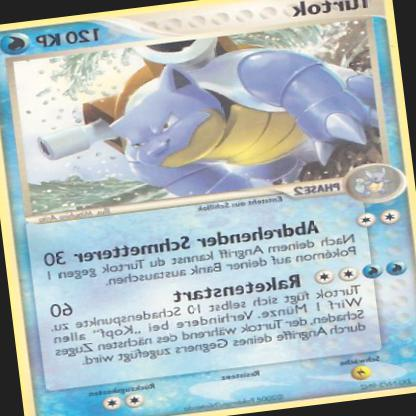Blastoise: (53, 20, 383, 211)
